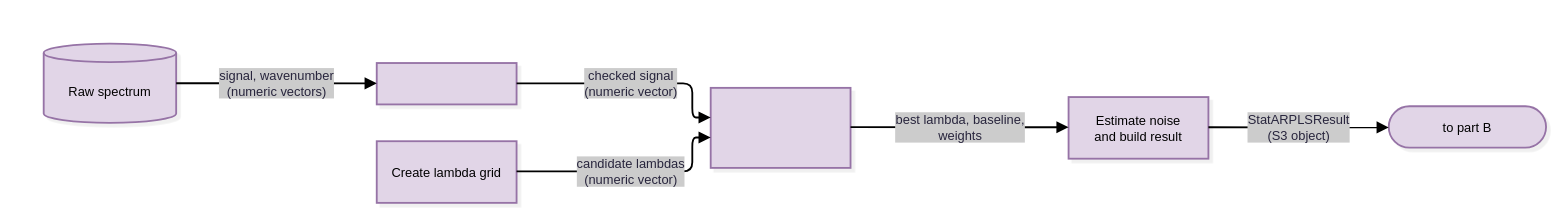
The diagram is 1566 pixels wide and 223 high, and some of its shapes have lost their labels. The centre of each missing label's shape, as x and y in pixels:
Fit and score lambdas (C++ engine): (782,129)
Validate axis: (448,85)
